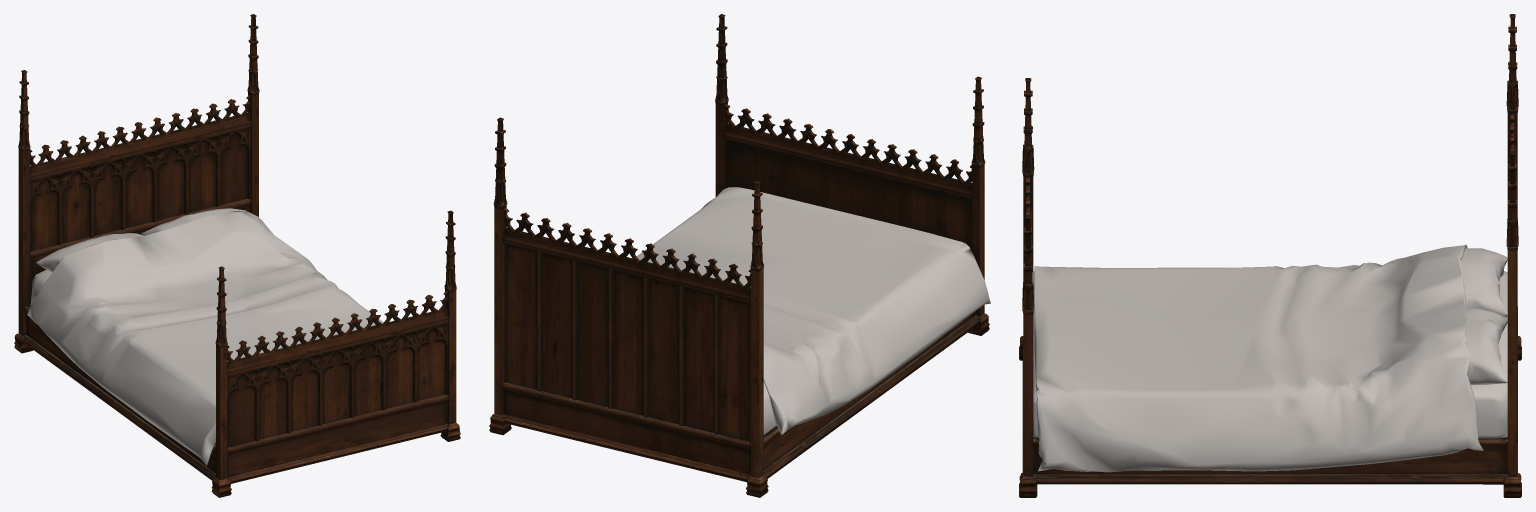
The model's file is GothicBed_01.glb.
The picture shows the model from 3 angles, left to right: view 1: azimuth 30°, elevation 25°; view 2: azimuth 150°, elevation 25°; view 3: azimuth 270°, elevation 25°; orthographic projection. The views are drawn at different scales.
Visible parts, largest first — view 1: GothicBed_01; view 2: GothicBed_01; view 3: GothicBed_01.
Part boxes in pixels (bbox=[...]): GothicBed_01: bbox=[14, 14, 460, 497]; GothicBed_01: bbox=[489, 14, 990, 497]; GothicBed_01: bbox=[1019, 14, 1521, 497].
Size of the model in its own units: 1.49 by 1.53 by 2.04.
1 material, 1 textured.
